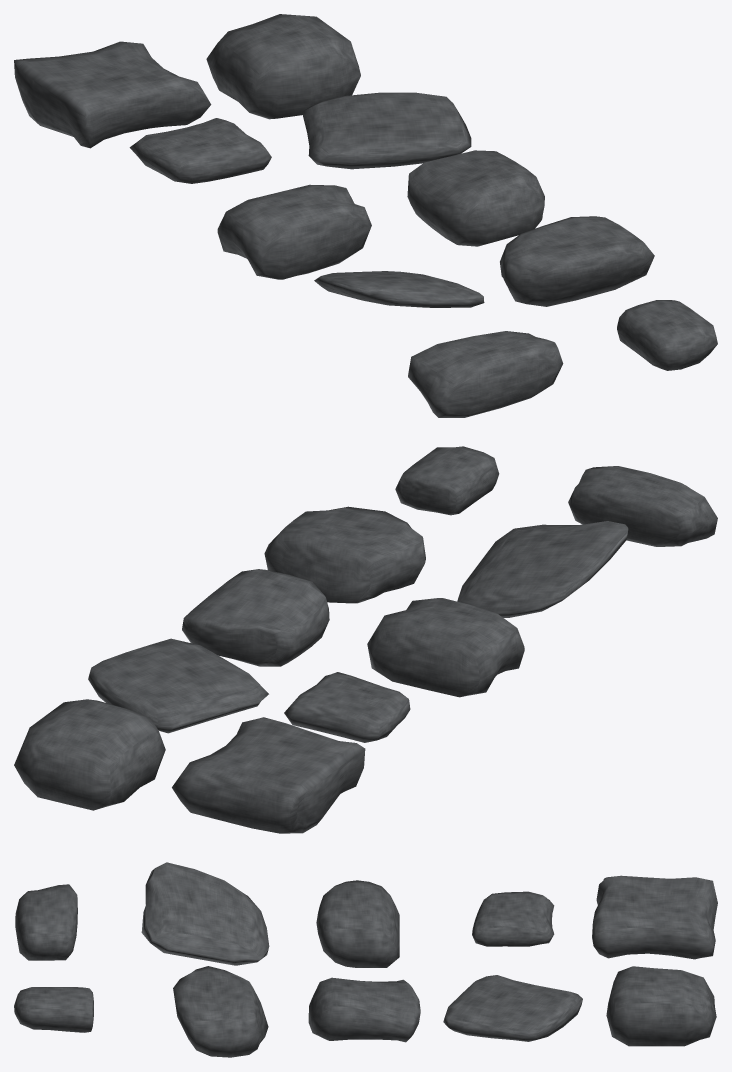
File: Stenen Fbx.fbx
The picture shows the model from 3 angles, top to bottom: view 1: azimuth 30°, elevation 25°; view 2: azimuth 150°, elevation 25°; view 3: azimuth 270°, elevation 25°; orthographic projection. The views are drawn at different scales.
Visible parts, largest first — view 1: pCube4, pCube10, pCube9, pCube2, pCube6, pCube8, pCube5, pCube3, pCube7, pCube1; view 2: pCube4, pCube10, pCube2, pCube6, pCube9, pCube1, pCube8, pCube5, pCube3, pCube7; view 3: pCube1, pCube4, pCube10, pCube9, pCube6, pCube8, pCube2, pCube5, pCube3, pCube7.
Boxes of the visible parts, x1,y1,x2,y2 form: pCube4: (14,41,211,148); pCube10: (206,14,360,119); pCube9: (302,92,471,169); pCube2: (217,184,371,279); pCube6: (500,216,654,306); pCube8: (407,150,544,246); pCube5: (408,331,563,417); pCube3: (129,118,271,183); pCube7: (617,300,717,370); pCube1: (314,271,484,307); pCube4: (172,717,365,833); pCube10: (14,699,165,810); pCube2: (367,598,524,697); pCube6: (264,506,425,603); pCube9: (88,638,268,733); pCube1: (457,521,628,617); pCube8: (182,569,329,666); pCube5: (568,466,717,546); pCube3: (284,672,410,742); pCube7: (395,446,499,515); pCube1: (141,862,269,965); pCube4: (592,875,717,959); pCube10: (606,966,716,1046); pCube9: (443,975,582,1041); pCube6: (173,966,268,1057); pCube8: (308,977,420,1042); pCube2: (316,880,399,967); pCube5: (15,884,77,960); pCube3: (472,891,554,946); pCube7: (14,987,93,1032).
Bounding box in the file's own units: 3.2 × 0.8937 × 7.27.
